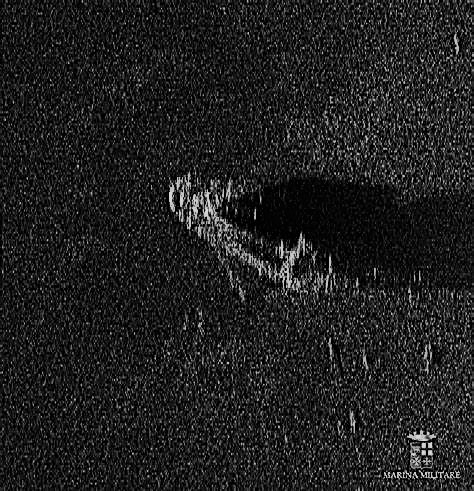ship: (166, 165, 346, 303)
